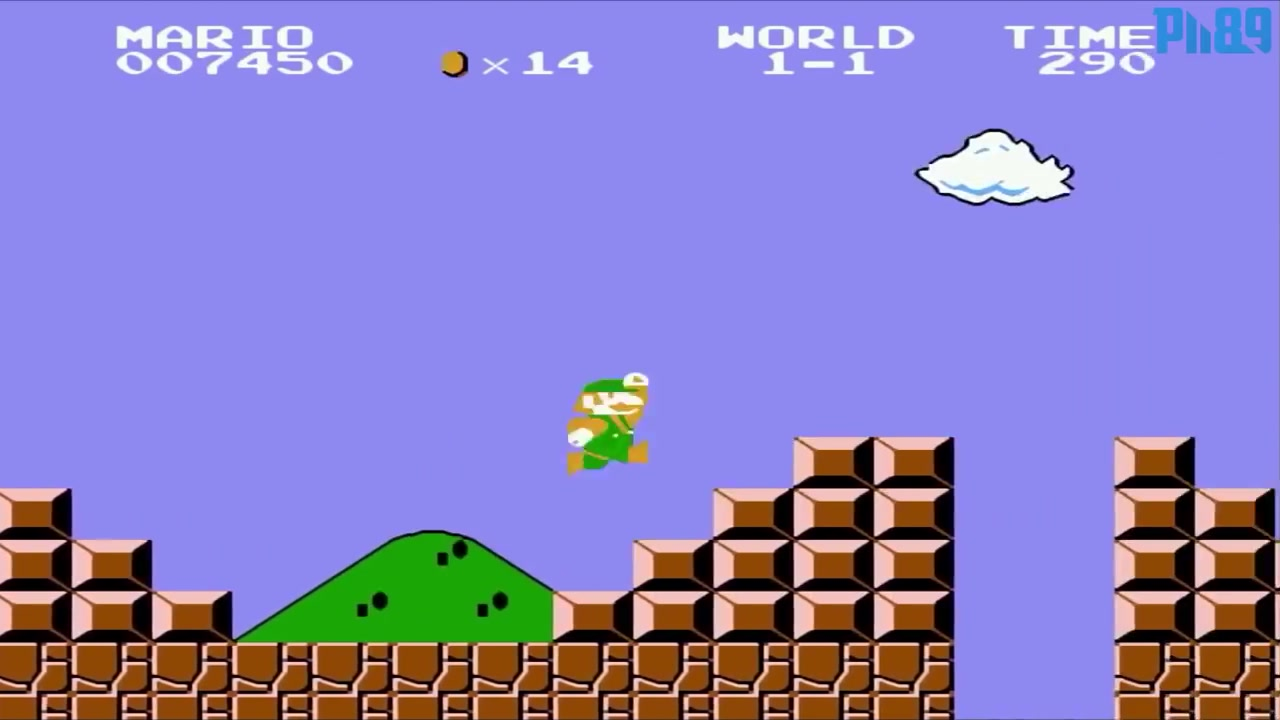mario: (554, 362, 657, 477)
